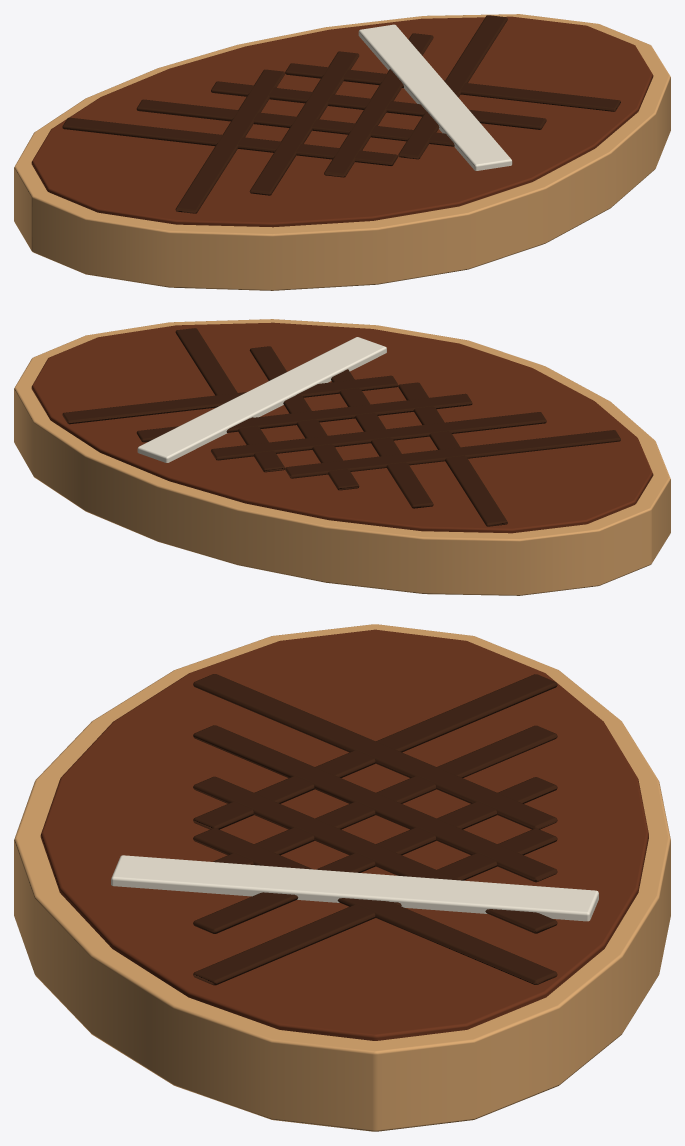
The model's file is Steak_Cooked.glb.
The picture shows the model from 3 angles, top to bottom: view 1: azimuth 30°, elevation 25°; view 2: azimuth 150°, elevation 25°; view 3: azimuth 270°, elevation 25°; orthographic projection. The views are drawn at different scales.
Parts seen in each view (by area): view 1: Steak_Cooked; view 2: Steak_Cooked; view 3: Steak_Cooked.
Boxes of the visible parts, box(x1,y1,x2,y2) form: Steak_Cooked: box(14, 14, 670, 290); Steak_Cooked: box(14, 319, 670, 595); Steak_Cooked: box(14, 624, 670, 1131).
Bounding box in the file's own units: 0.2503 × 0.0273 × 0.162.
